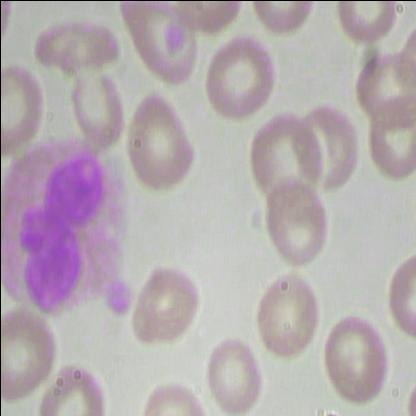Platelets: (105, 278, 134, 318)
RBC: (121, 258, 213, 354), (121, 87, 200, 198), (200, 30, 280, 126), (248, 110, 325, 209), (115, 1, 198, 89), (260, 177, 332, 272), (318, 309, 389, 403), (250, 267, 321, 361), (201, 323, 263, 415), (31, 10, 120, 70), (363, 94, 415, 184), (354, 49, 416, 123), (333, 1, 400, 52), (247, 1, 314, 52)
WBC: (1, 135, 127, 321)
